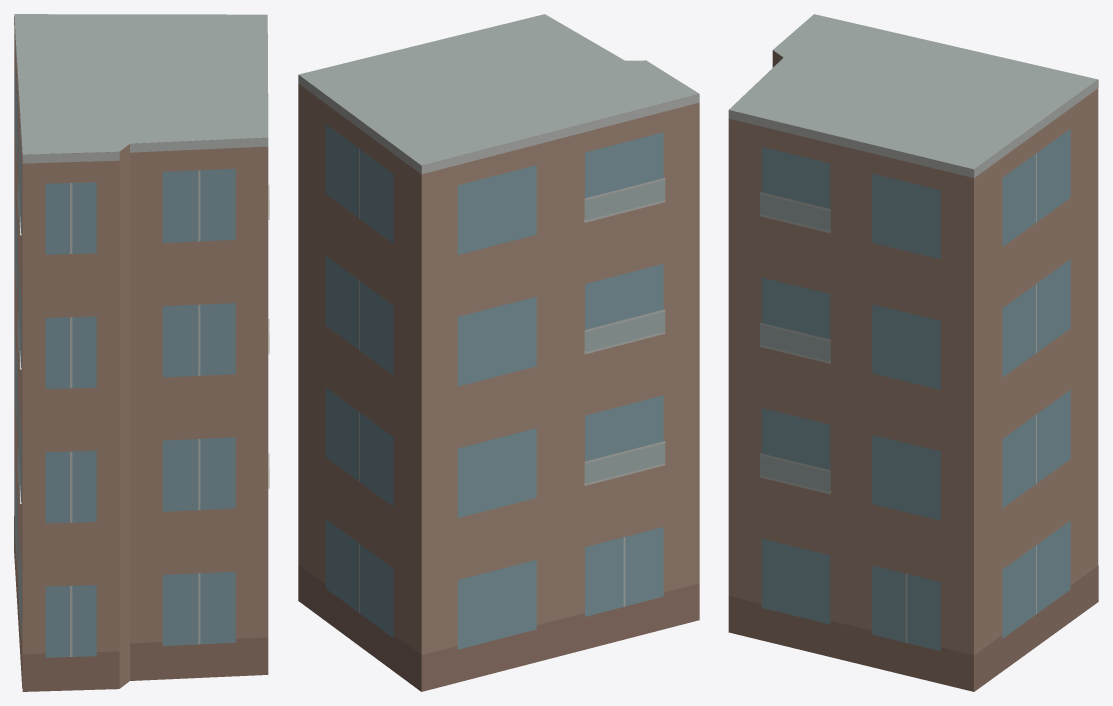
Rendered from survey-upis-32909559.glb.
3 views of the same model, side by side, from view 1: azimuth 30°, elevation 25°; view 2: azimuth 150°, elevation 25°; view 3: azimuth 270°, elevation 25° (orthographic). The views are drawn at different scales.
Parts seen in each view (by area): view 1: survey-upis-32909559.tmp; view 2: survey-upis-32909559.tmp; view 3: survey-upis-32909559.tmp.
Part boxes in pixels (x1,y1,x2,y2): survey-upis-32909559.tmp: (14, 14, 269, 691); survey-upis-32909559.tmp: (298, 14, 699, 691); survey-upis-32909559.tmp: (728, 14, 1098, 691).
Size of the model in its own units: 9.32 by 14.6 by 9.37.
